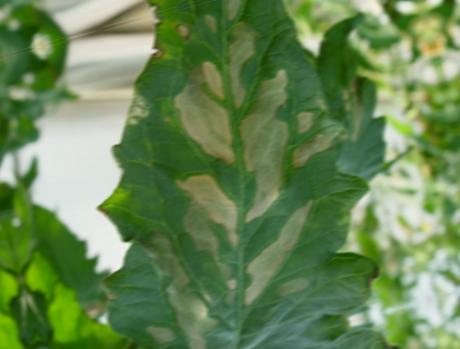Tomato leaf bacterial spot: (26, 0, 399, 349)
